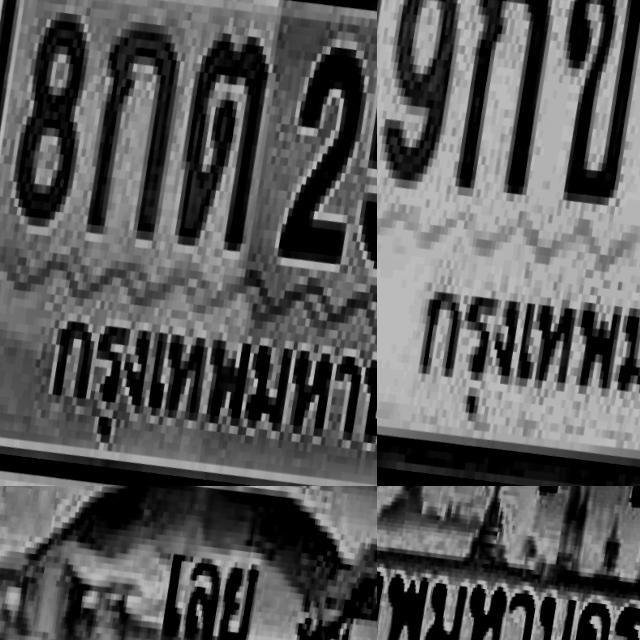license-plate: (0, 0, 377, 486), (377, 0, 640, 486), (0, 486, 377, 640), (377, 486, 640, 640)
